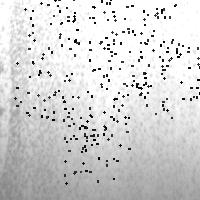pitted_surface: (7, 1, 200, 200), (89, 28, 147, 88), (68, 91, 128, 148), (120, 4, 177, 64), (14, 61, 72, 119), (118, 61, 171, 117), (64, 125, 116, 182), (24, 0, 75, 57), (59, 0, 114, 48), (160, 39, 200, 98)
